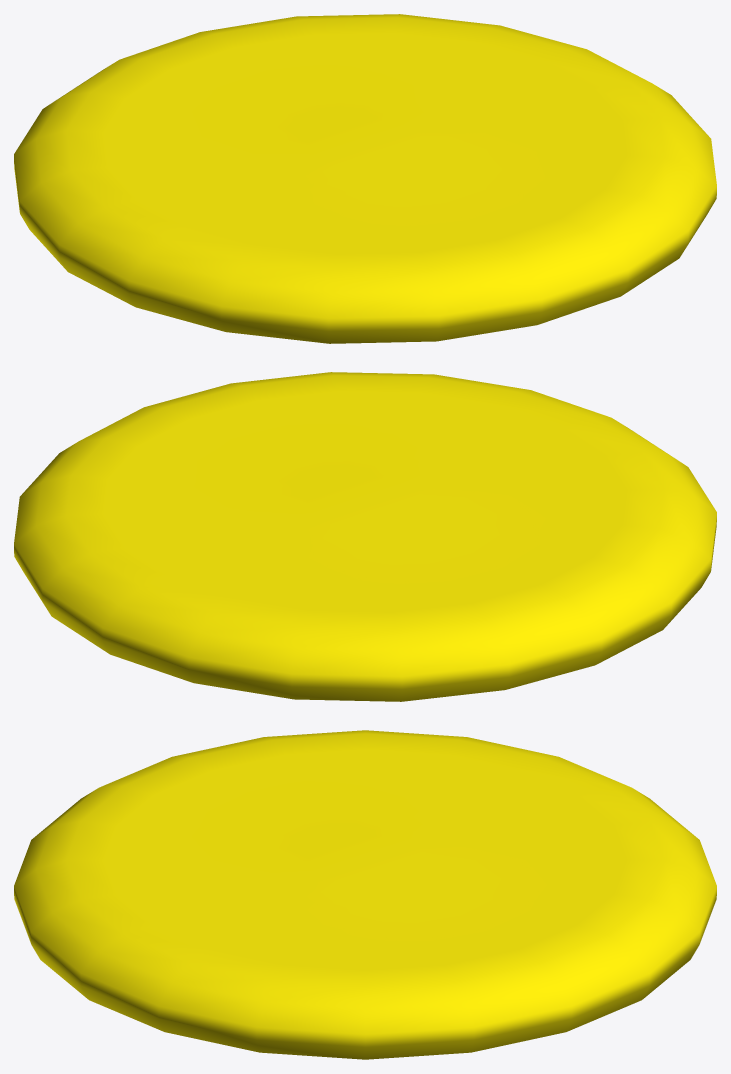
The model's file is Prize_Frisbee.fbx.
3 views of the same model, one above another, from view 1: azimuth 30°, elevation 25°; view 2: azimuth 150°, elevation 25°; view 3: azimuth 270°, elevation 25° (orthographic).
Parts seen in each view (by area): view 1: Frisbee; view 2: Frisbee; view 3: Frisbee.
Boxes of the visible parts, x1=… form: Frisbee: x1=14, y1=14, x2=716, y2=343; Frisbee: x1=14, y1=372, x2=716, y2=701; Frisbee: x1=14, y1=730, x2=716, y2=1059.
Bounding box in the file's own units: 34.83 × 3.01 × 34.83.
